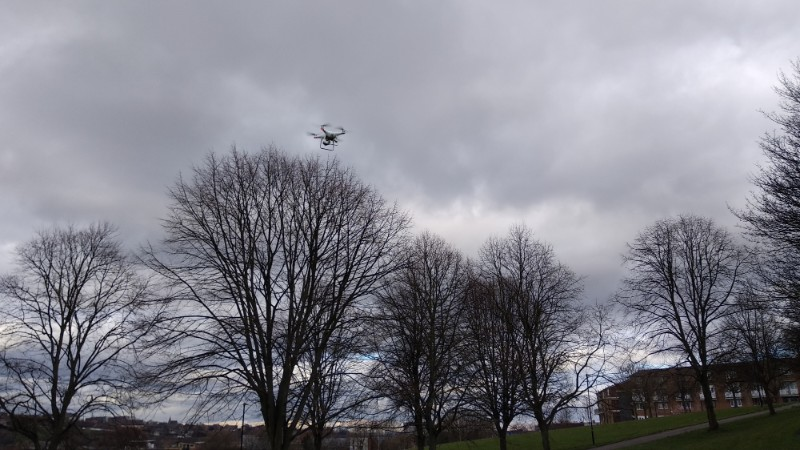drone: (309, 123, 346, 151)
